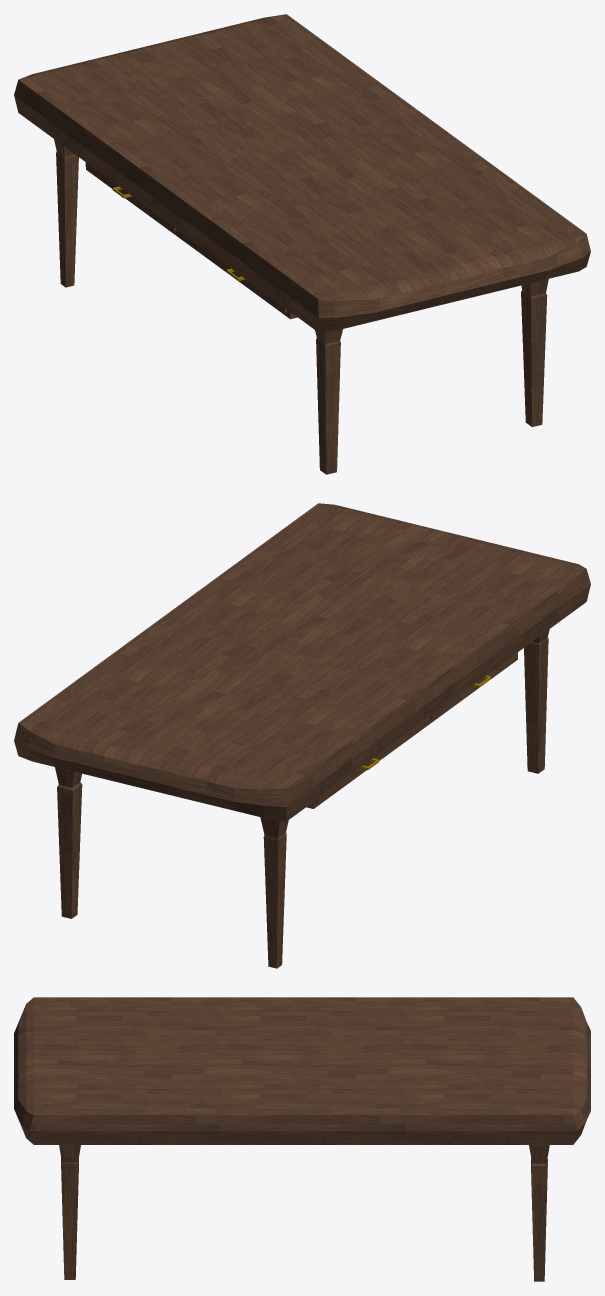
File: mesa3.fbx
3 views of the same model, one above another, from view 1: azimuth 30°, elevation 25°; view 2: azimuth 150°, elevation 25°; view 3: azimuth 270°, elevation 25° (orthographic). The views are drawn at different scales.
Visible parts, largest first — view 1: table3:Mesh; view 2: table3:Mesh; view 3: table3:Mesh.
Part boxes in pixels (x1,y1,x2,y2): table3:Mesh: [14, 14, 590, 474]; table3:Mesh: [14, 503, 590, 968]; table3:Mesh: [14, 997, 590, 1281].
Bounding box in the file's own units: 6.52 × 4.54 × 13.29.
Materials: 2 (1 with a texture image).
